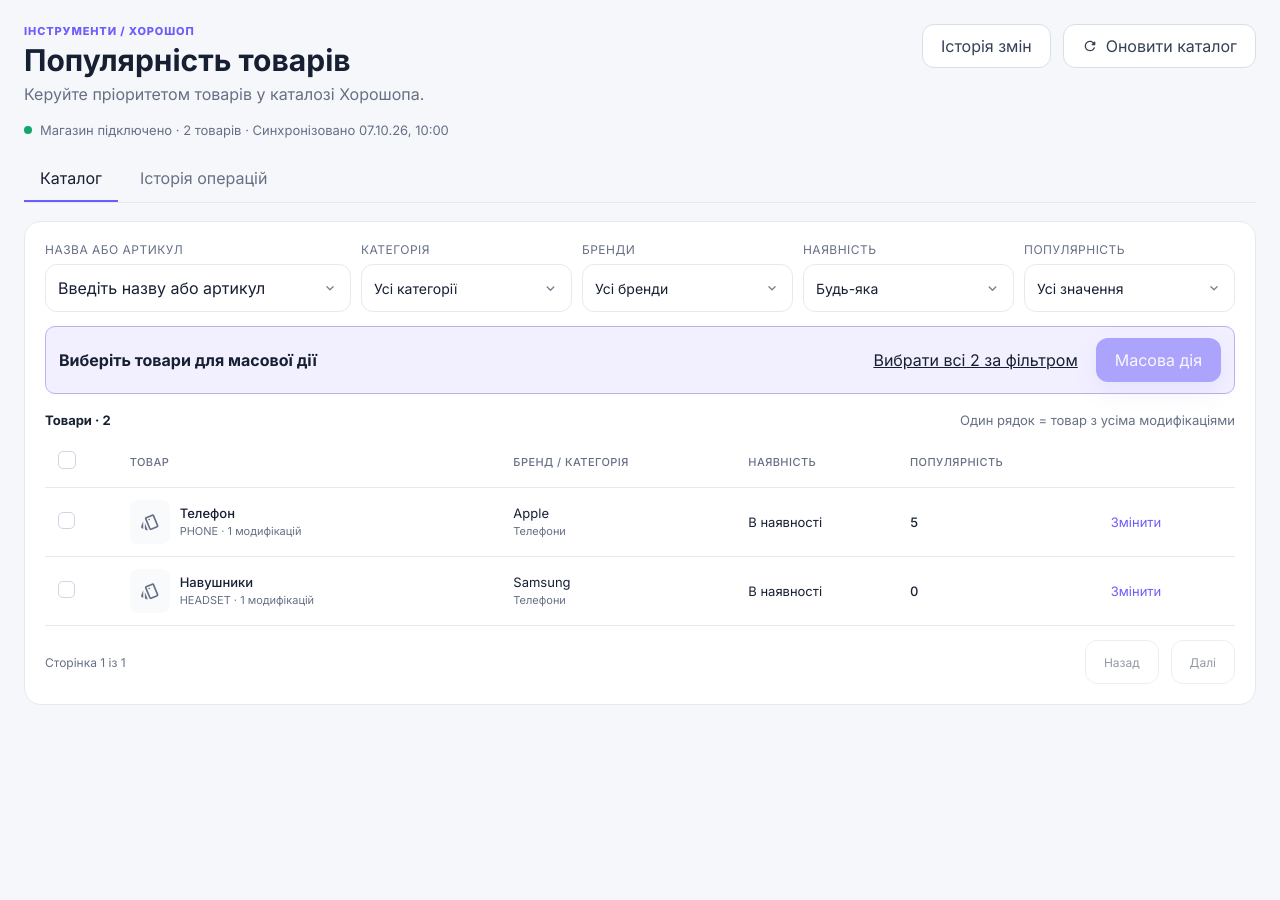
Test: HoroshopPopularityPage › shows catalog synchronization progress after refresh starts
expect the text "Телефон" is shown: met, box [180, 505, 235, 521]
Click the button "Оновити каталог" at (1159, 46), box [1063, 24, 1256, 68]
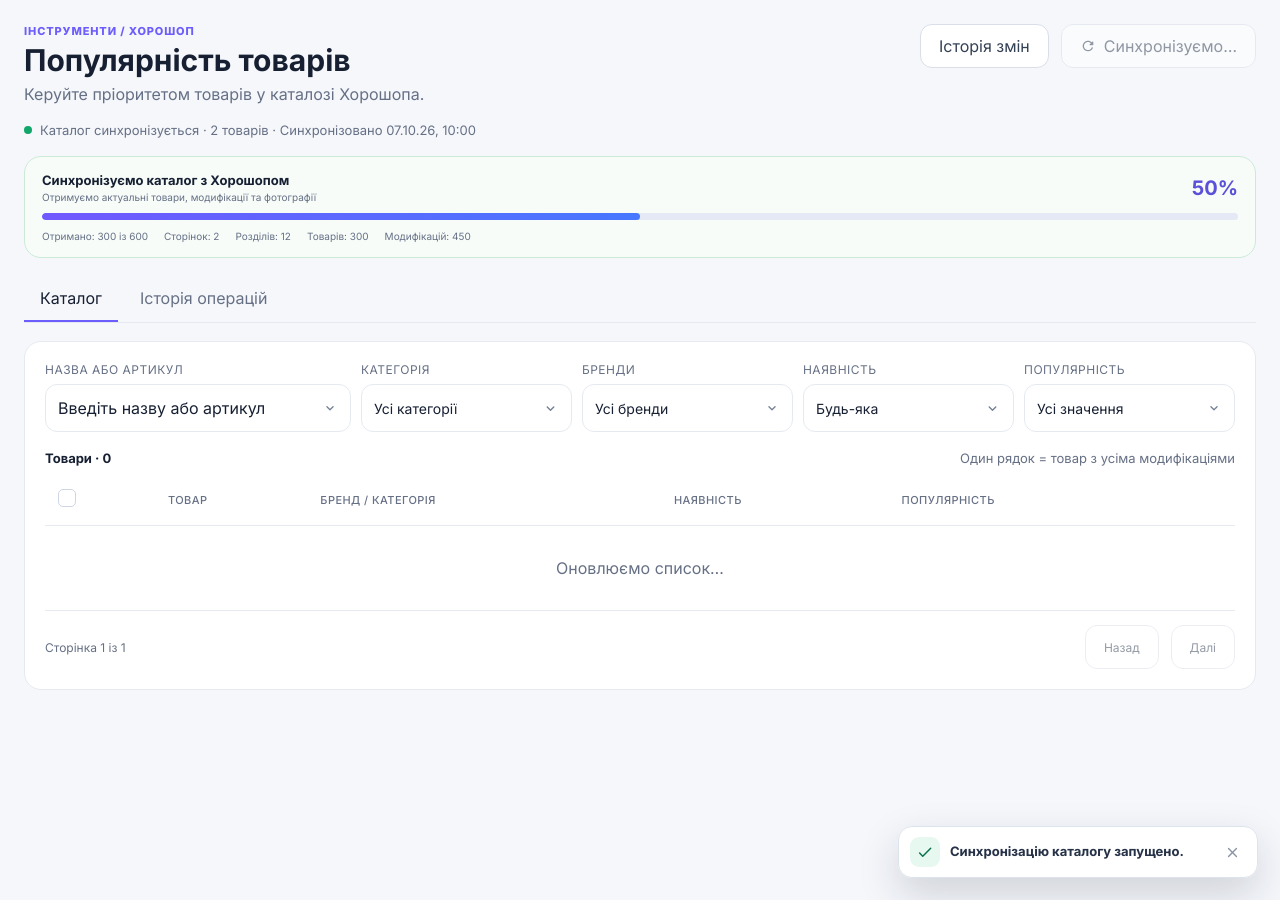
expect the text "Синхронізуємо каталог з Хорошопом" is shown: met, box [42, 172, 316, 188]
expect the text "50%" is shown: met, box [1192, 176, 1238, 200]
expect the text "Отримано: 300 із 600" is shown: met, box [42, 230, 148, 242]
